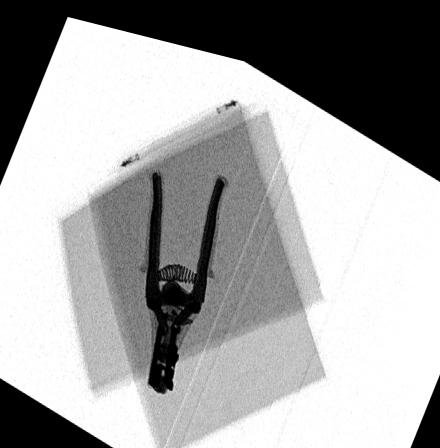Pliers: (144, 161, 229, 384)
